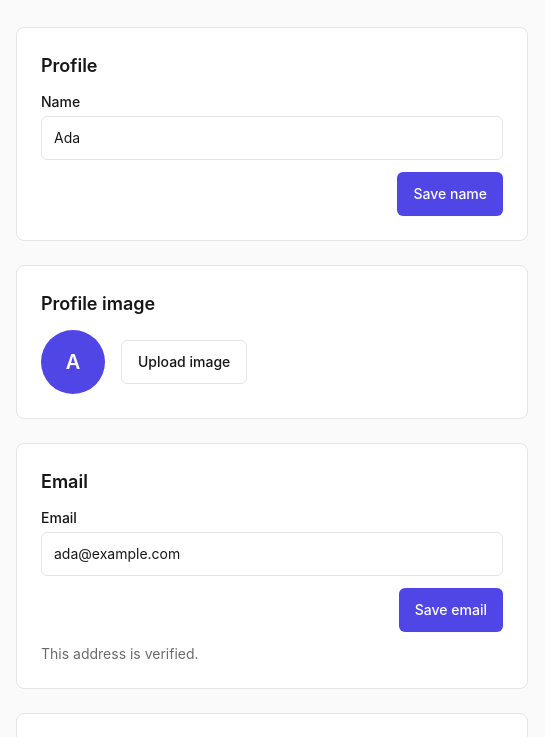
Scenario: Account › goes back to unverified when the address moves to a new mailbox
Check: the text "This address is verified." is shown, box left=41, top=645, right=199, bottom=662
Replace the text in the field labelled "Email" with "new@example.com" at {"x": 272, "y": 554}, box left=41, top=532, right=503, bottom=576
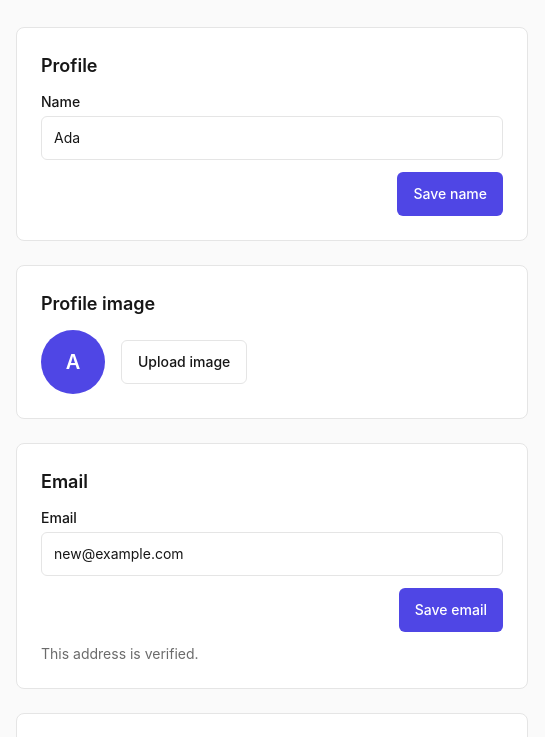
Click the button "Save email" at {"x": 451, "y": 610}, box left=399, top=588, right=503, bottom=632
(page scrolled)
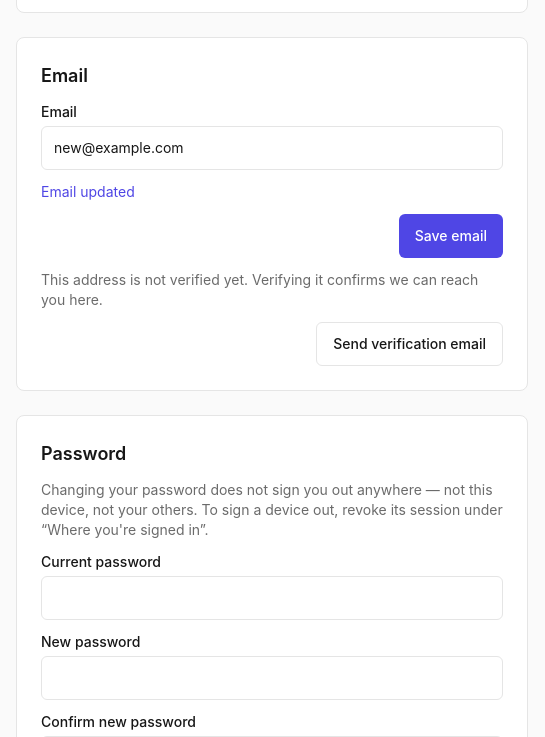
Check: the text "Email updated" is shown, box left=41, top=183, right=135, bottom=200
Check: the button "Send verification email" is shown, box left=316, top=322, right=503, bottom=366
